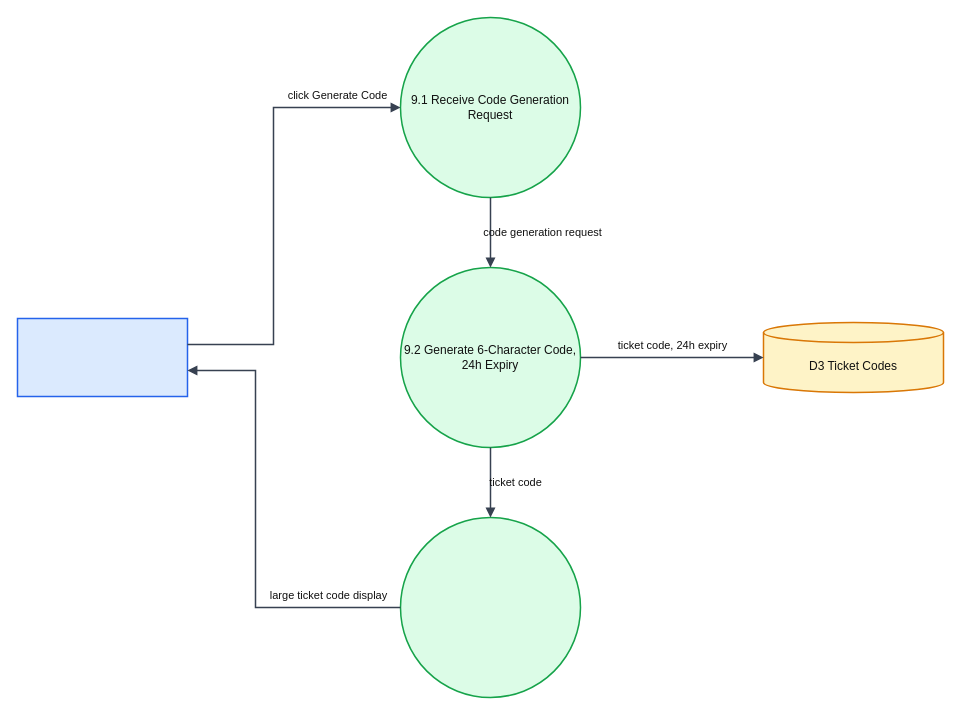
This 962x716 diagram has some shape labels left out. The centre of each missing label's shape, as x and y in pixels:
9.3 Display Ticket Code: [490,607]
Counter Staff: [102,357]
